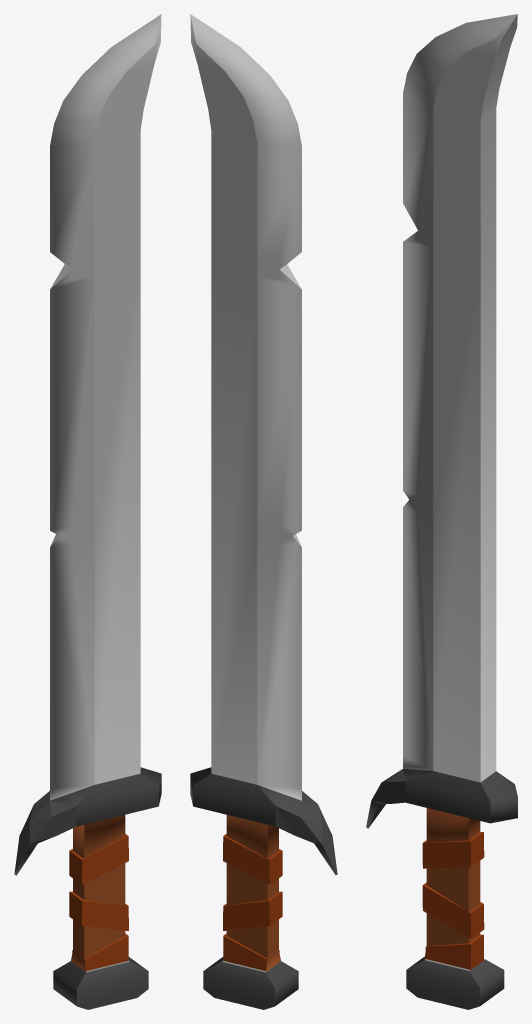
Rendered from Curved Sword.FBX.
The picture shows the model from 3 angles, left to right: view 1: azimuth 30°, elevation 25°; view 2: azimuth 150°, elevation 25°; view 3: azimuth 330°, elevation 25°; orthographic projection. The views are drawn at different scales.
Parts seen in each view (by area): view 1: Box001; view 2: Box001; view 3: Box001.
Part boxes in pixels (bbox=[...]): Box001: bbox=[14, 14, 161, 1009]; Box001: bbox=[190, 14, 337, 1009]; Box001: bbox=[366, 14, 517, 1009].
Size of the model in its own units: 19.69 by 124 by 5.51.
